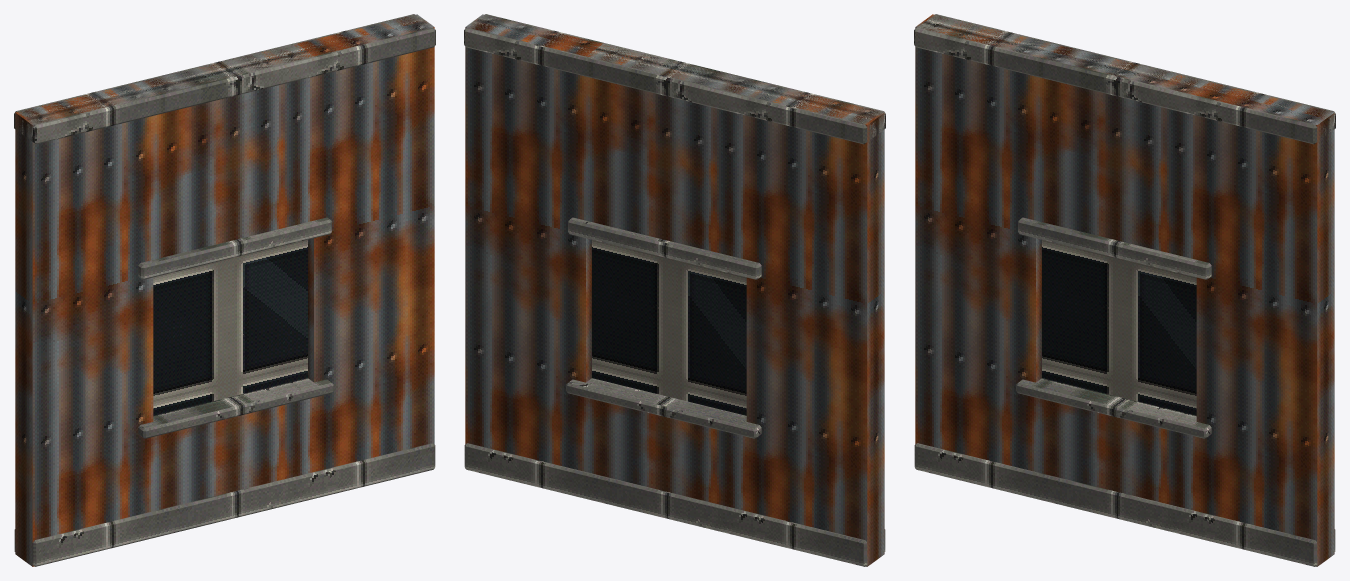
Rendered from wall_metal_glass.glb.
3 renders of one model, left to right at view 1: azimuth 30°, elevation 25°; view 2: azimuth 150°, elevation 25°; view 3: azimuth 330°, elevation 25°, orthographic.
Parts seen in each view (by area): view 1: wall_metal_glass_mesh; view 2: wall_metal_glass_mesh; view 3: wall_metal_glass_mesh.
Boxes of the visible parts, <box> form: wall_metal_glass_mesh: <box>14,14,435,566</box>; wall_metal_glass_mesh: <box>464,14,885,566</box>; wall_metal_glass_mesh: <box>914,14,1335,566</box>.
Size of what is drawn, in the model's own units: 4 by 4.2 by 0.5.
Materials: 3 (3 with a texture image).
